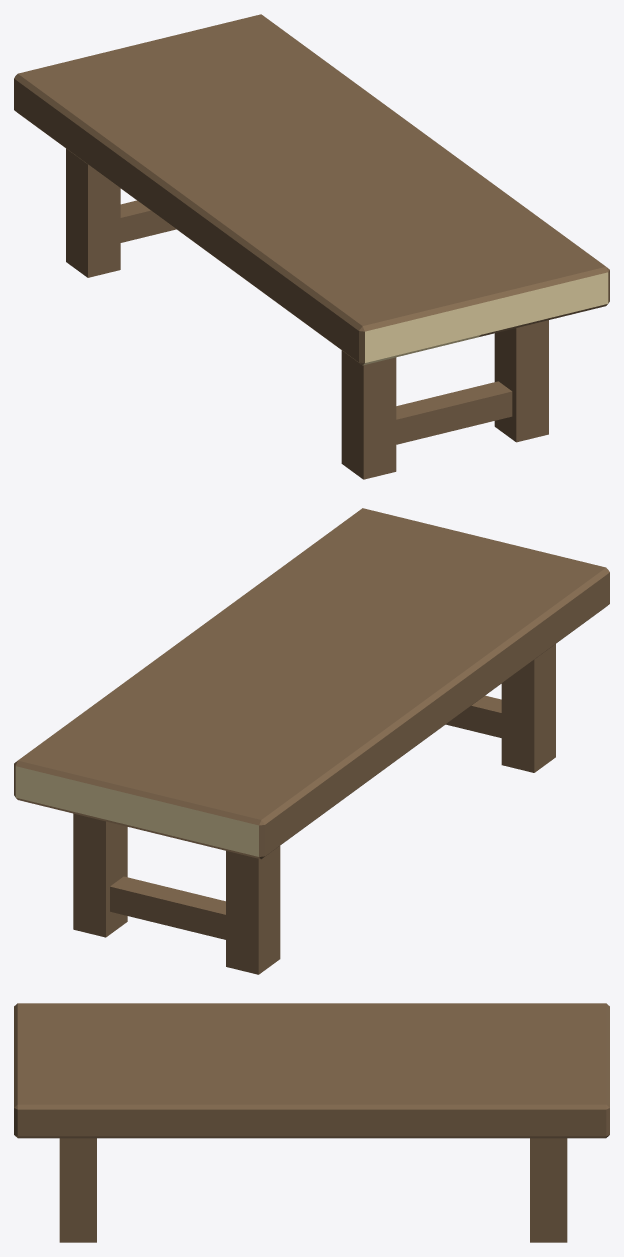
The model's file is SM_Bench.fbx.
The picture shows the model from 3 angles, top to bottom: view 1: azimuth 30°, elevation 25°; view 2: azimuth 150°, elevation 25°; view 3: azimuth 270°, elevation 25°; orthographic projection. The views are drawn at different scales.
Visible parts, largest first — view 1: SM_Bench_LOD0; view 2: SM_Bench_LOD0; view 3: SM_Bench_LOD0.
Part boxes in pixels (x1,y1,x2,y2): SM_Bench_LOD0: (14, 14, 609, 479); SM_Bench_LOD0: (14, 508, 609, 974); SM_Bench_LOD0: (14, 1003, 609, 1242).
Size of the model in its own units: 80 by 193 by 54.15.
Materials: 1 (1 with a texture image).
